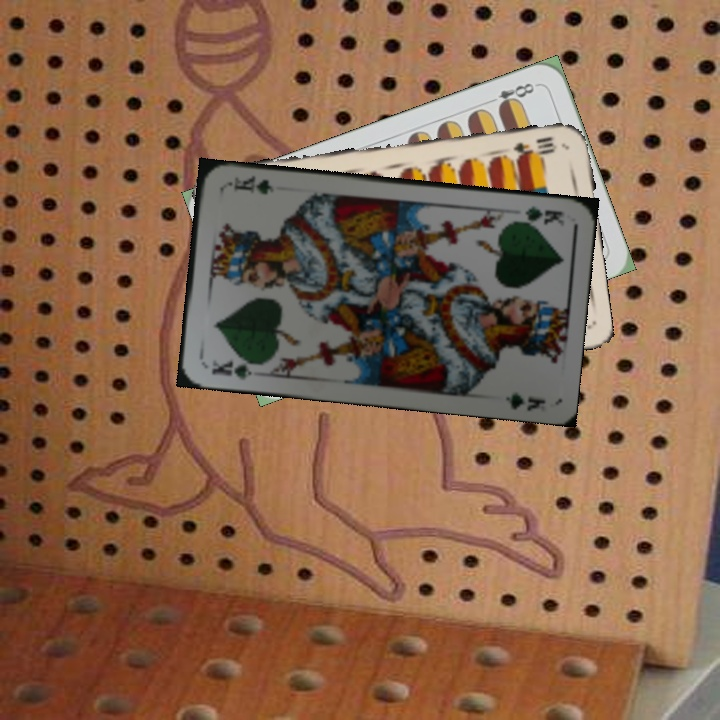E10: (510, 132, 560, 162)
E8: (483, 79, 541, 112)
GK: (510, 201, 567, 229), (207, 355, 263, 383)
